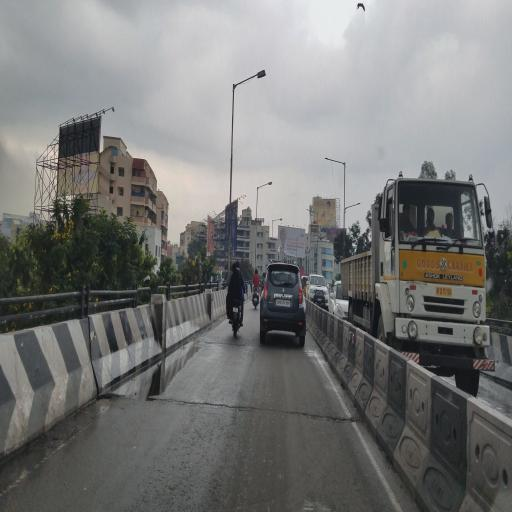street_light_0: (246, 170, 274, 204), (232, 62, 269, 86), (320, 144, 344, 170), (271, 208, 289, 229), (340, 198, 362, 212)
